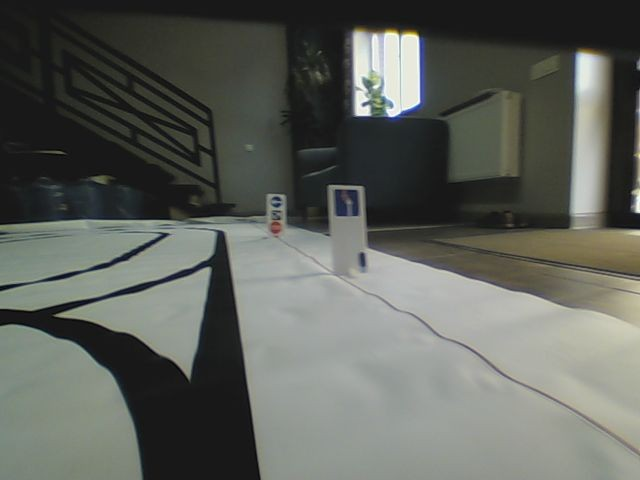priority_movement: (330, 186, 363, 220)
